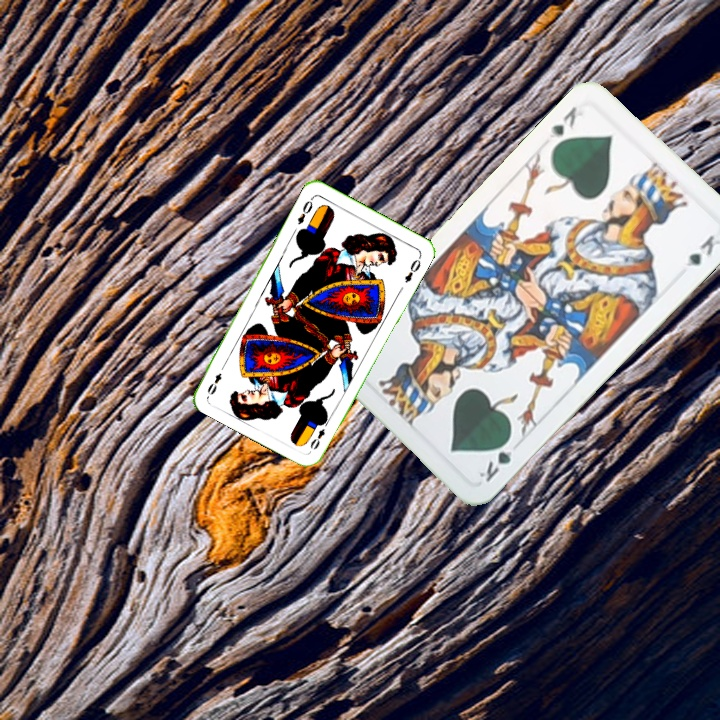EO: (306, 416, 332, 452), (293, 197, 315, 227)
GK: (475, 433, 515, 485), (545, 102, 580, 143)
